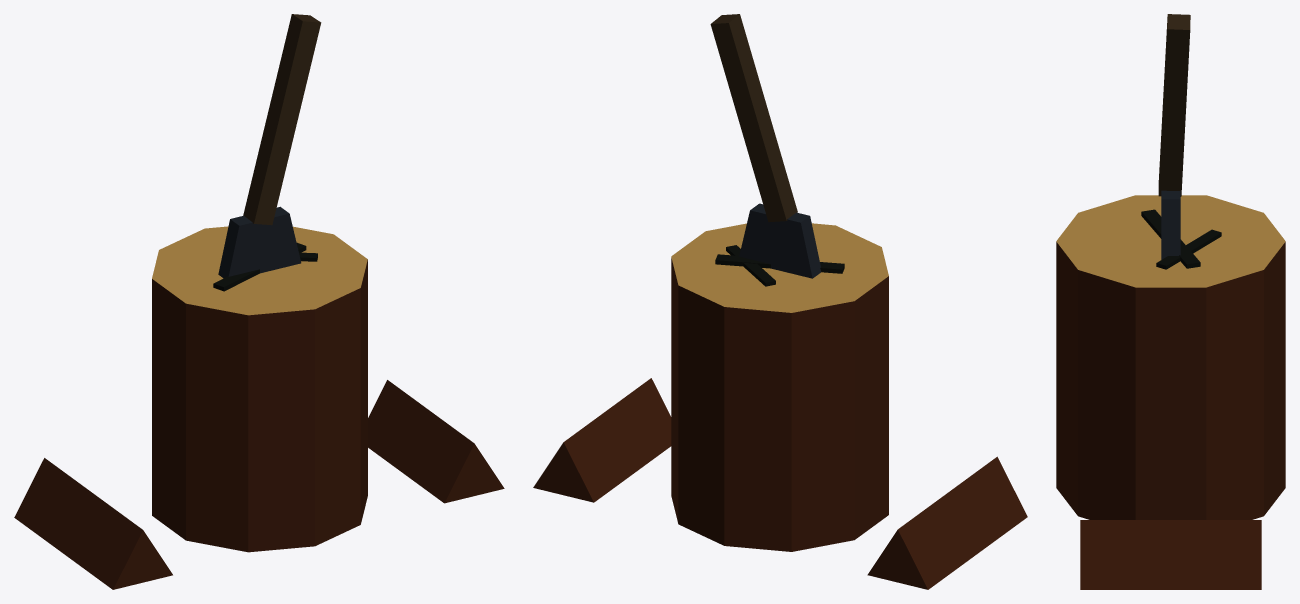
The model's file is SM_ChoppingBlock.fbx.
3 views of the same model, side by side, from view 1: azimuth 30°, elevation 25°; view 2: azimuth 150°, elevation 25°; view 3: azimuth 270°, elevation 25° (orthographic). The views are drawn at different scales.
Visible parts, largest first — view 1: SM_ChoppingBlock; view 2: SM_ChoppingBlock; view 3: SM_ChoppingBlock.
Part boxes in pixels (bbox=[...]): SM_ChoppingBlock: bbox=[14, 14, 504, 589]; SM_ChoppingBlock: bbox=[533, 14, 1027, 589]; SM_ChoppingBlock: bbox=[1056, 14, 1285, 589].
Size of the model in its own units: 79 by 90.35 by 38.
